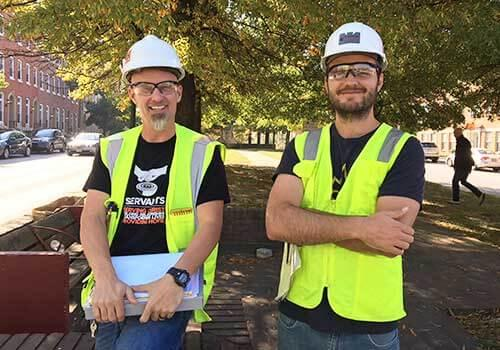helmet: (120, 36, 185, 85), (321, 24, 389, 67)
